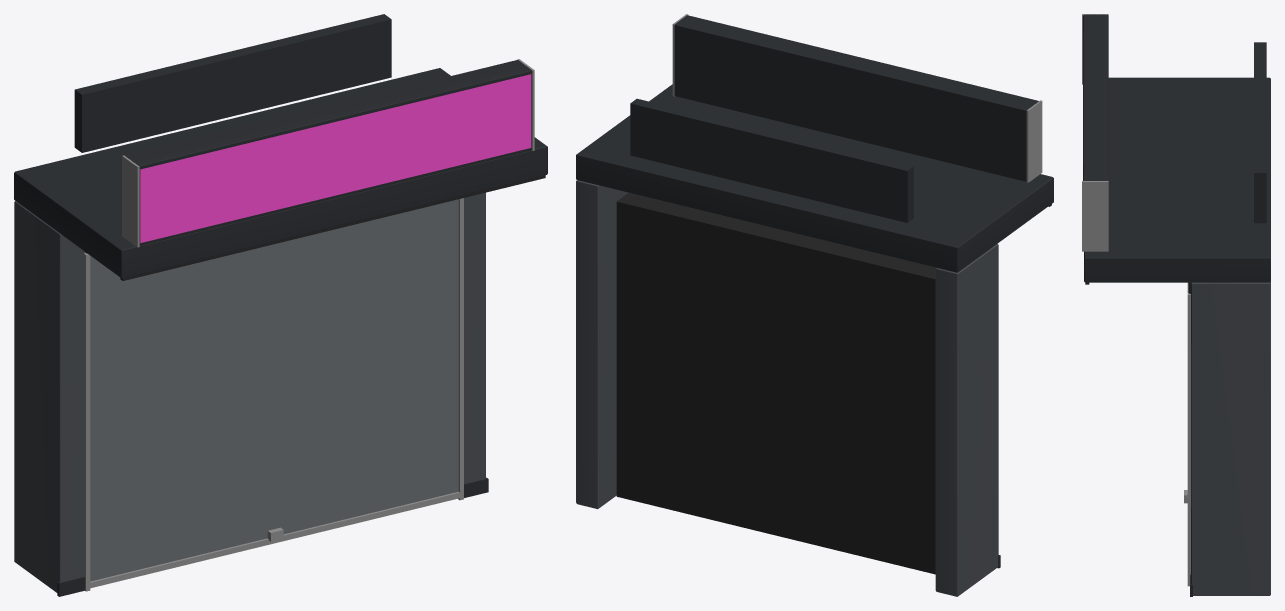
Rendered from St_Shop_Shuttered_A.fbx.
3 views of the same model, side by side, from view 1: azimuth 30°, elevation 25°; view 2: azimuth 150°, elevation 25°; view 3: azimuth 270°, elevation 25° (orthographic). The views are drawn at different scales.
Visible parts, largest first — view 1: St_Shop_Shuttered_A_LOD0; view 2: St_Shop_Shuttered_A_LOD0; view 3: St_Shop_Shuttered_A_LOD0.
Part boxes in pixels (<box>): St_Shop_Shuttered_A_LOD0: <box>14,14,547,596</box>; St_Shop_Shuttered_A_LOD0: <box>576,14,1053,596</box>; St_Shop_Shuttered_A_LOD0: <box>1082,14,1270,596</box>.
Size of what is drawn, in the model's own units: 4.02 by 4.22 by 1.77.
